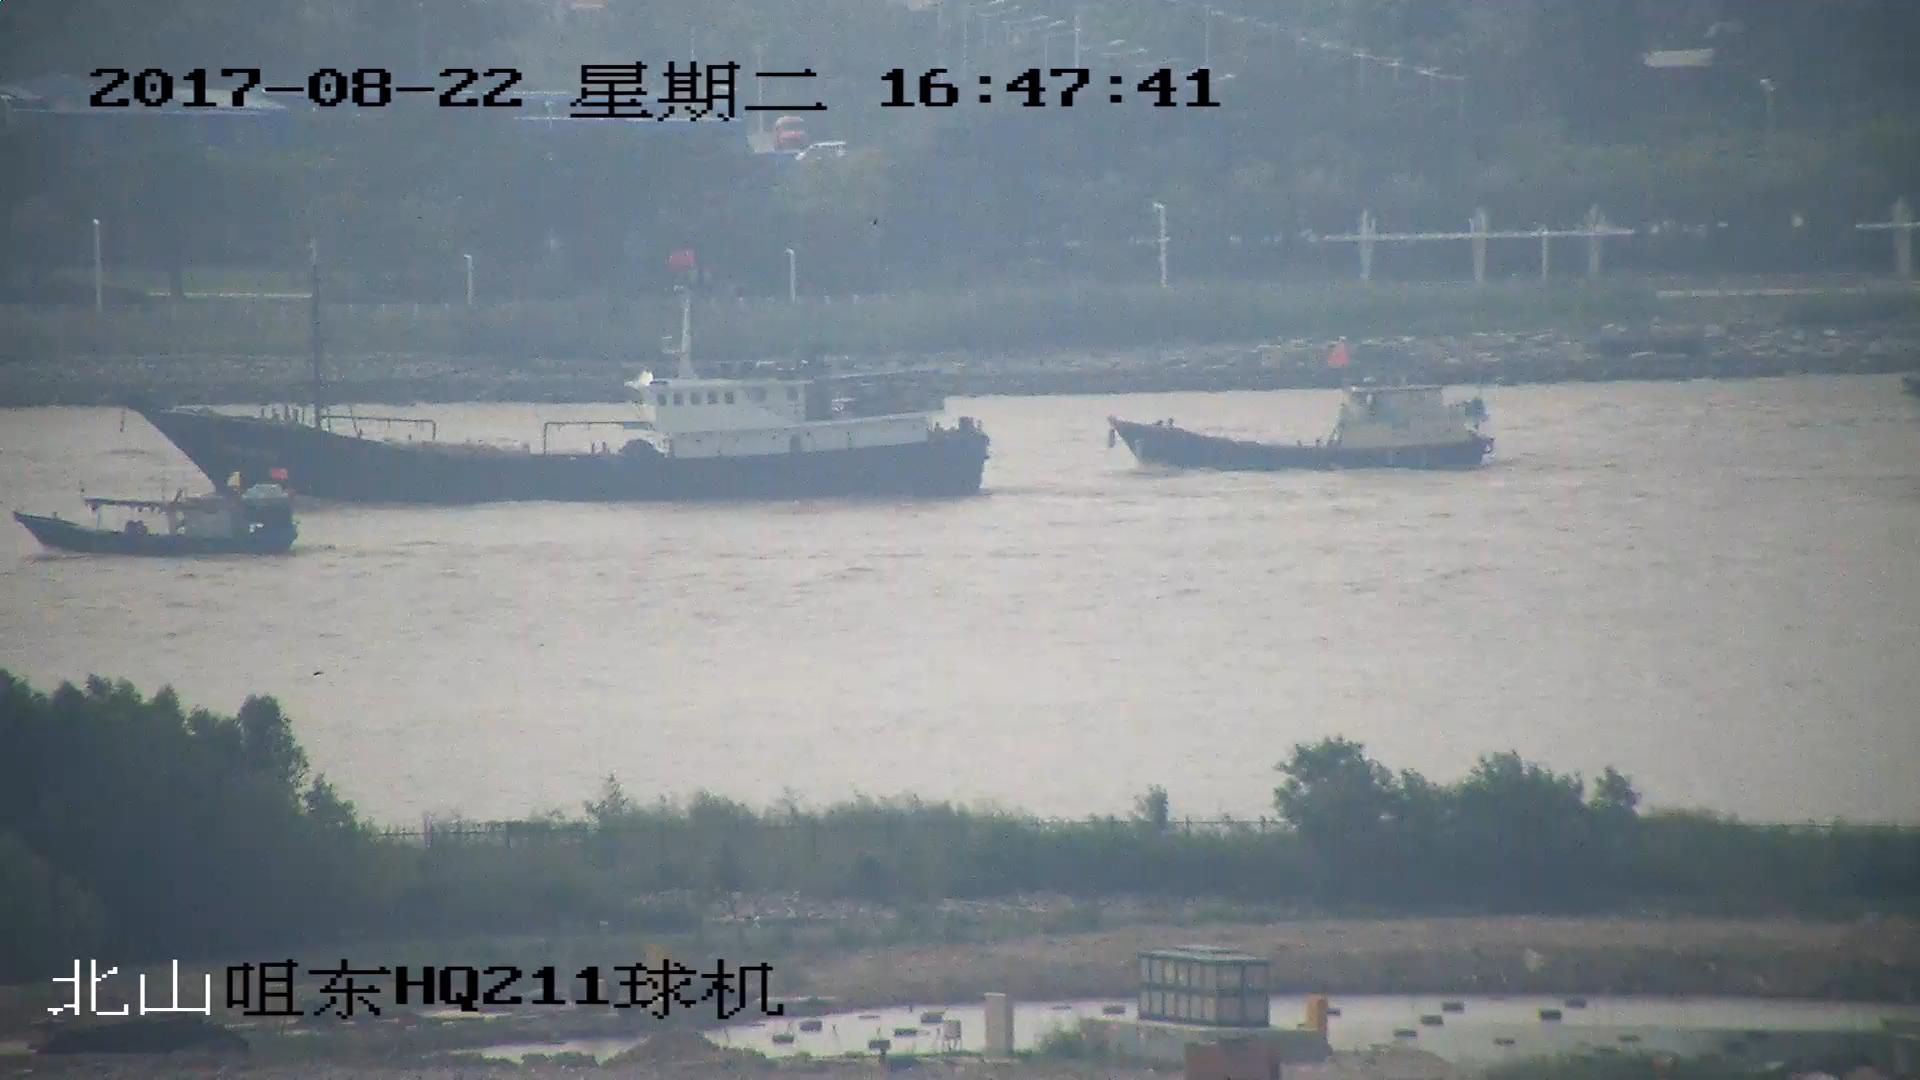fishing boat: (131, 235, 997, 505), (1112, 341, 1495, 473), (16, 478, 293, 563)
